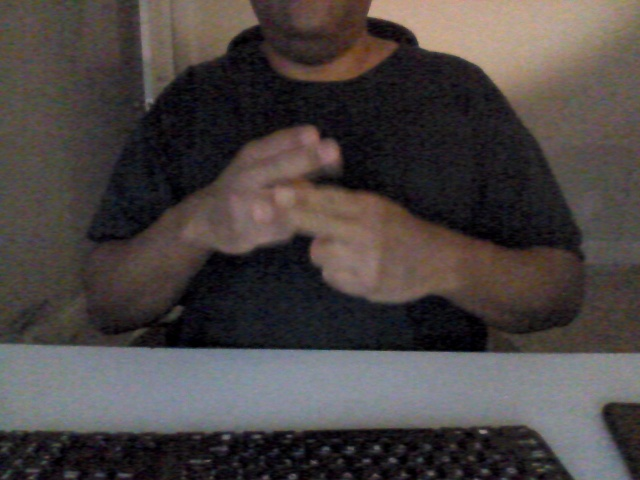name: (184, 123, 448, 311)
